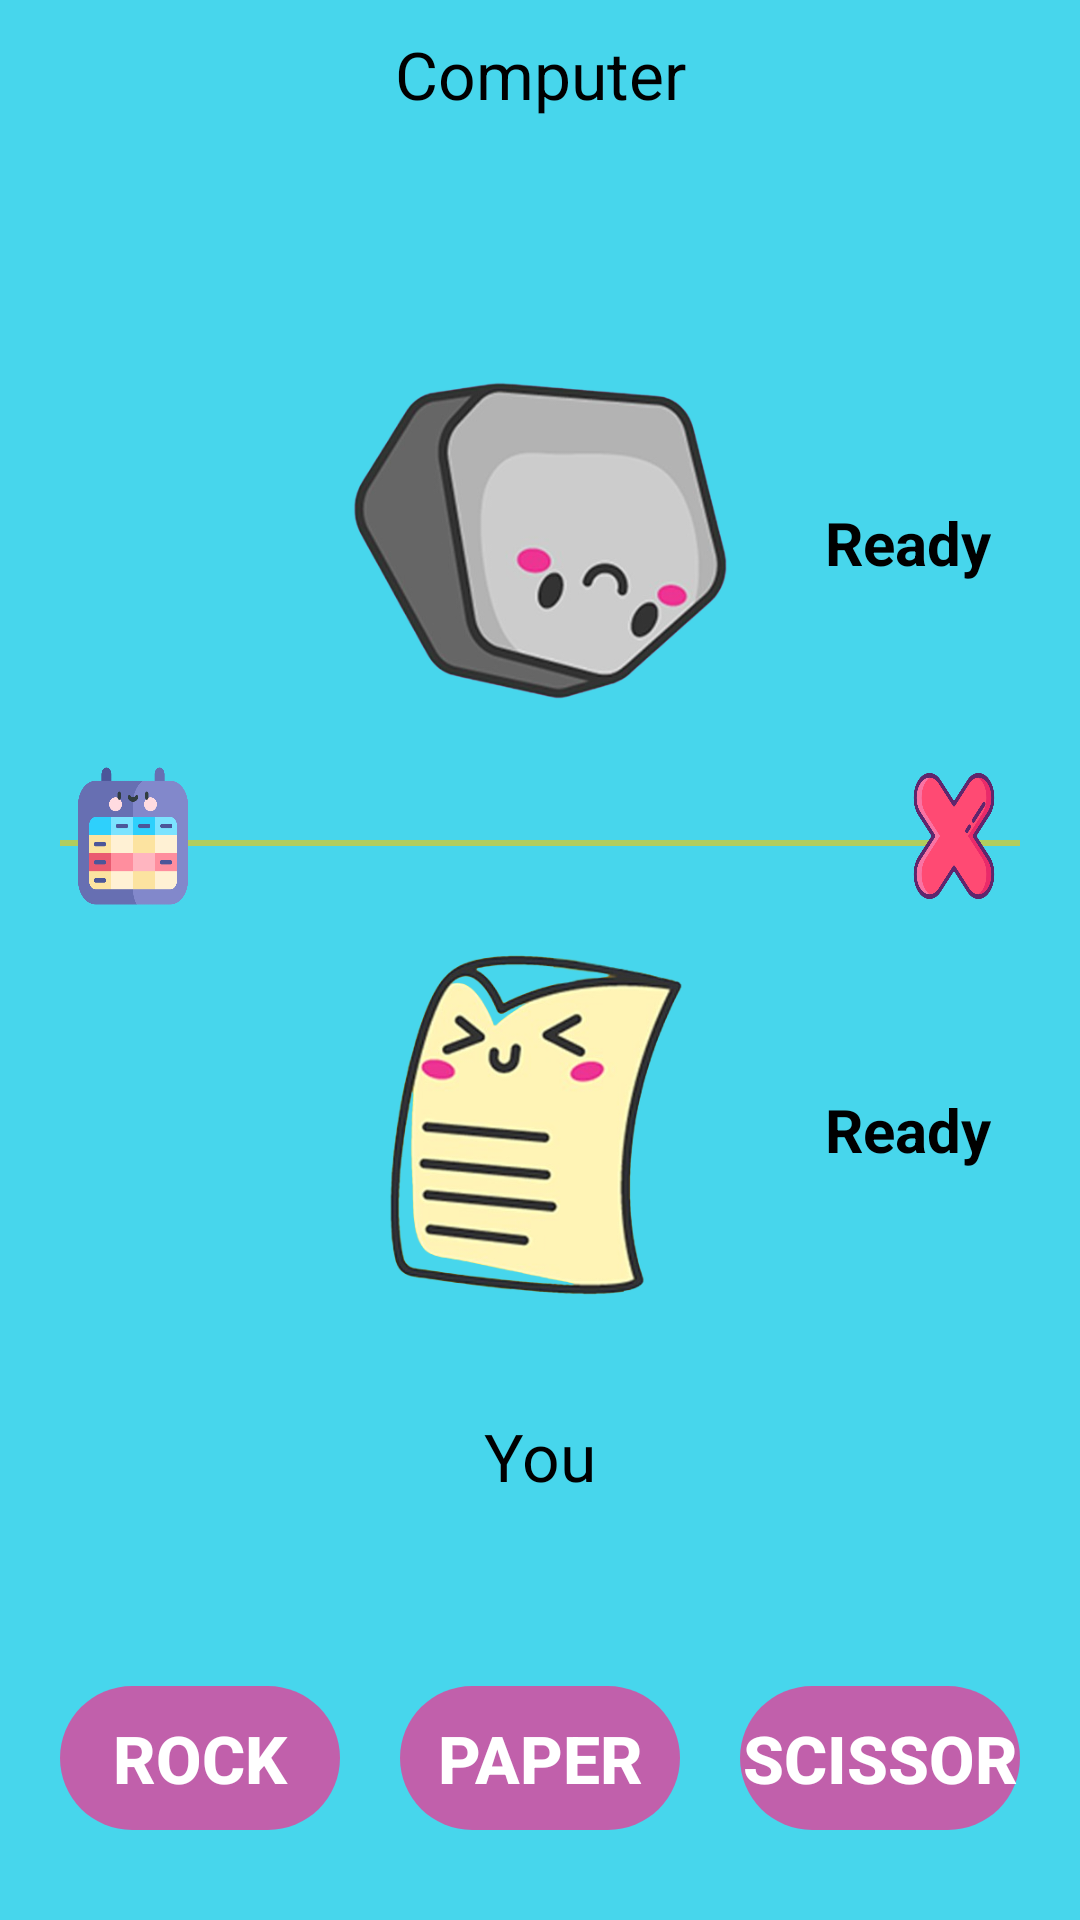

Named icons in this screenshot (1080px x 1920px) and their centers, (x=x, y=y):
cross: (x=954, y=836)
paper: (x=536, y=1125)
scoreboard: (x=133, y=836)
